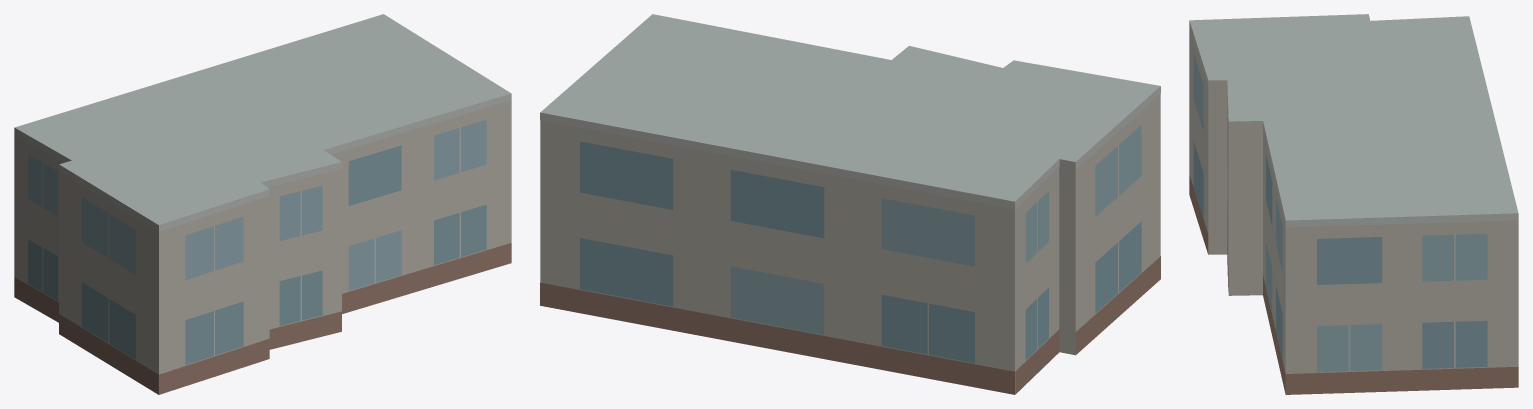
File: survey-upis-32637546.glb
3 views of the same model, side by side, from view 1: azimuth 30°, elevation 25°; view 2: azimuth 150°, elevation 25°; view 3: azimuth 270°, elevation 25° (orthographic). The views are drawn at different scales.
Visible parts, largest first — view 1: survey-upis-32637546.tmp; view 2: survey-upis-32637546.tmp; view 3: survey-upis-32637546.tmp.
Part boxes in pixels (x1,y1,x2,y2): survey-upis-32637546.tmp: (14, 14, 511, 394); survey-upis-32637546.tmp: (540, 14, 1160, 394); survey-upis-32637546.tmp: (1189, 14, 1518, 394).
Bounding box in the file's own units: 15.51 × 6.1 × 10.45.
